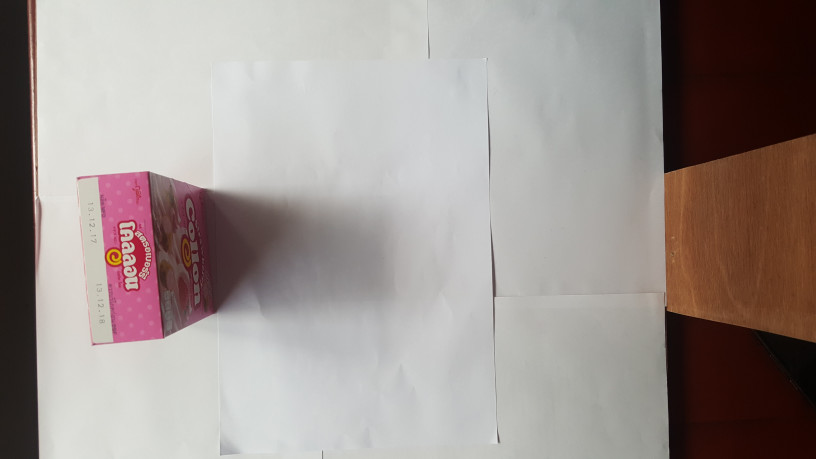collon-strawberry: (77, 172, 219, 345)
